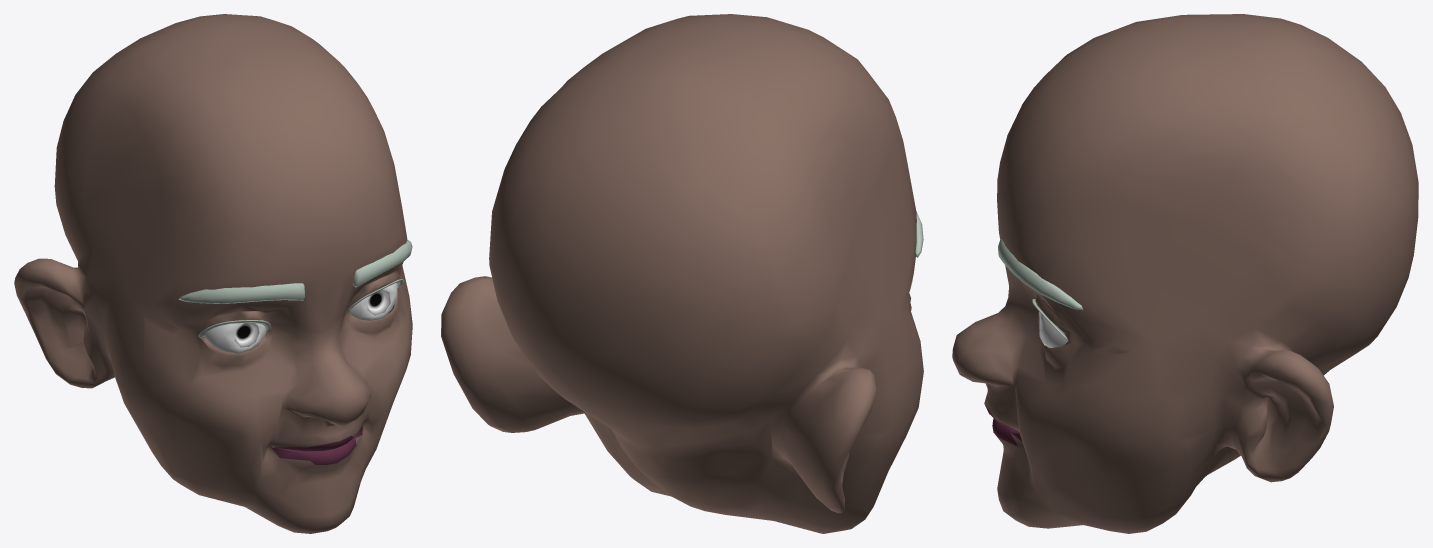
3 views of the same model, side by side, from view 1: azimuth 30°, elevation 25°; view 2: azimuth 150°, elevation 25°; view 3: azimuth 270°, elevation 25° (orthographic). The views are drawn at different scales.
Visible parts, largest first — view 1: skin.001, brows.001, eyes.001, lashes.001; view 2: skin.001; view 3: skin.001, brows.001, eyes.001.
Part boxes in pixels (left/top/right/bottom): skin.001: left=14, top=14, right=412, bottom=533; brows.001: left=178, top=240, right=412, bottom=303; eyes.001: left=205, top=283, right=397, bottom=353; lashes.001: left=198, top=279, right=404, bottom=338; skin.001: left=441, top=14, right=923, bottom=533; skin.001: left=952, top=14, right=1418, bottom=533; brows.001: left=998, top=238, right=1083, bottom=310; eyes.001: left=1038, top=311, right=1067, bottom=347.
Bounding box in the file's own units: 1.69 × 2 × 1.74.
10 materials, 1 textured.
